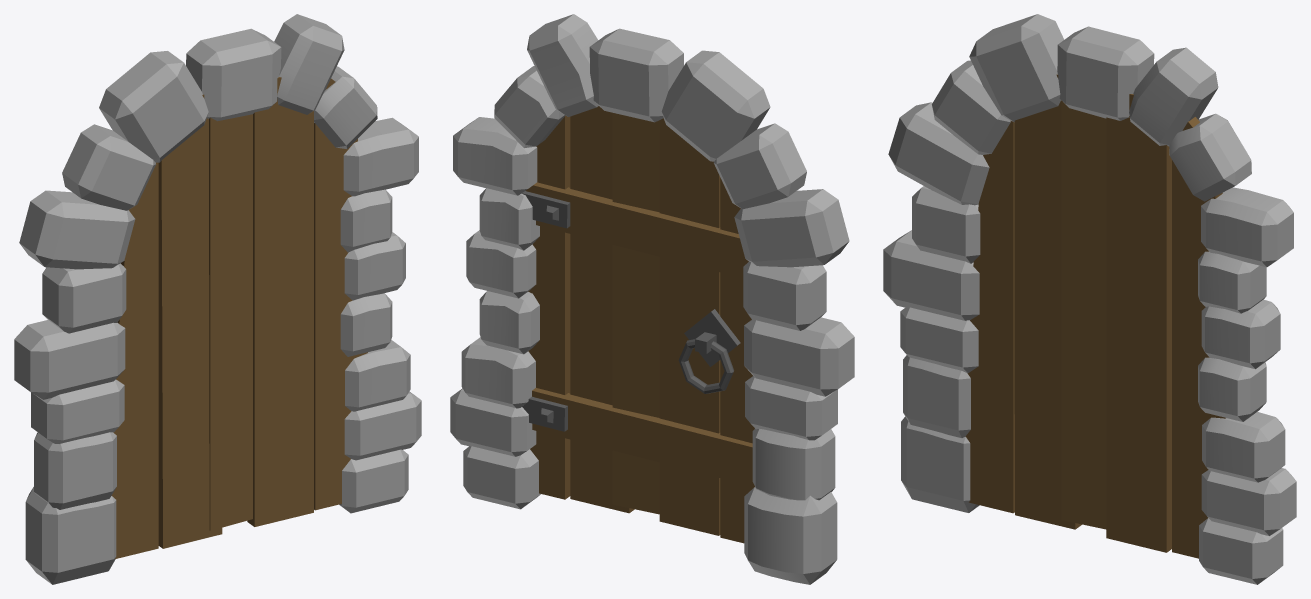
File: door_01.fbx
3 renders of one model, left to right at view 1: azimuth 30°, elevation 25°; view 2: azimuth 150°, elevation 25°; view 3: azimuth 330°, elevation 25°, orthographic. The views are drawn at different scales.
Visible parts, largest first — view 1: door2; view 2: door2; view 3: door2.
Part boxes in pixels (<box>): door2: <box>14,14,421,584</box>; door2: <box>450,14,854,584</box>; door2: <box>883,14,1296,584</box>.
Size of the model in its own units: 164 by 26.06 by 200.
